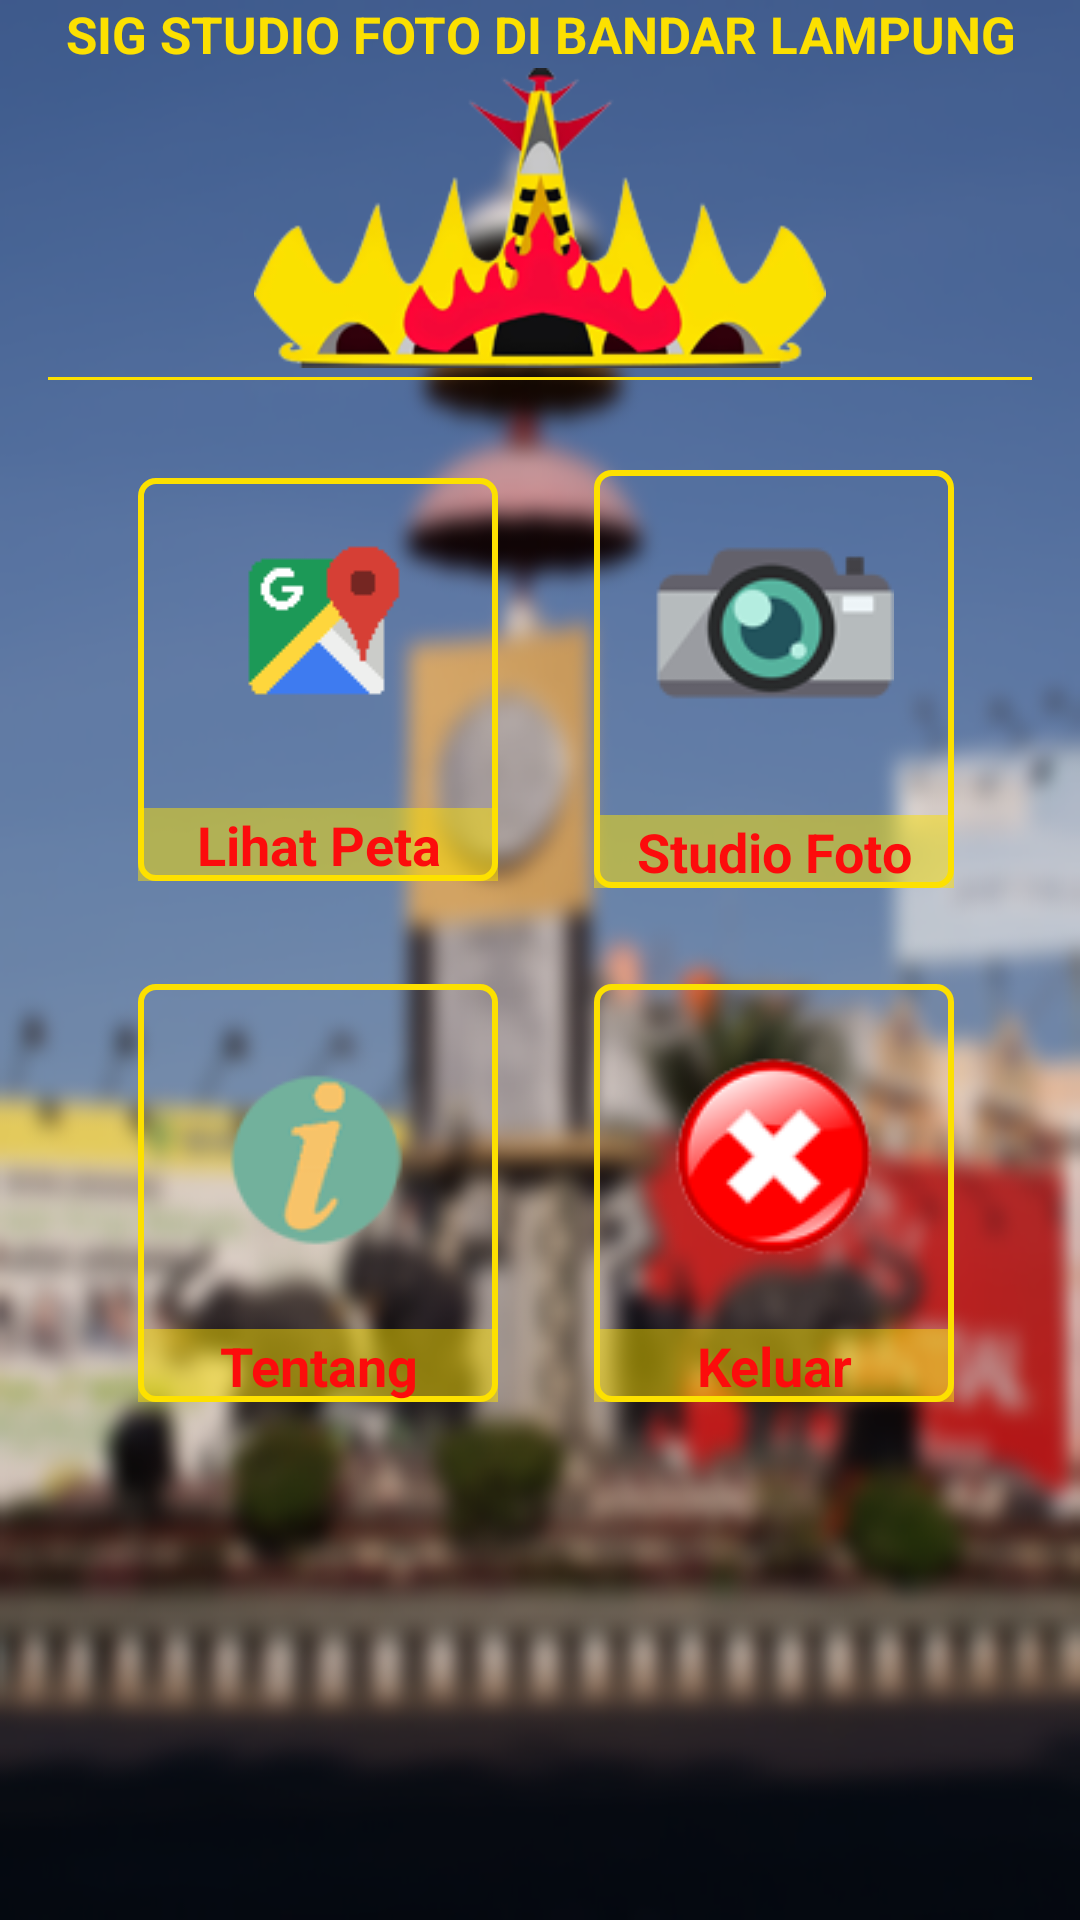

Named icons in this screenshot (1080w x 1920h) and their centers, (x=x, y=y):
camera: (x=775, y=623)
